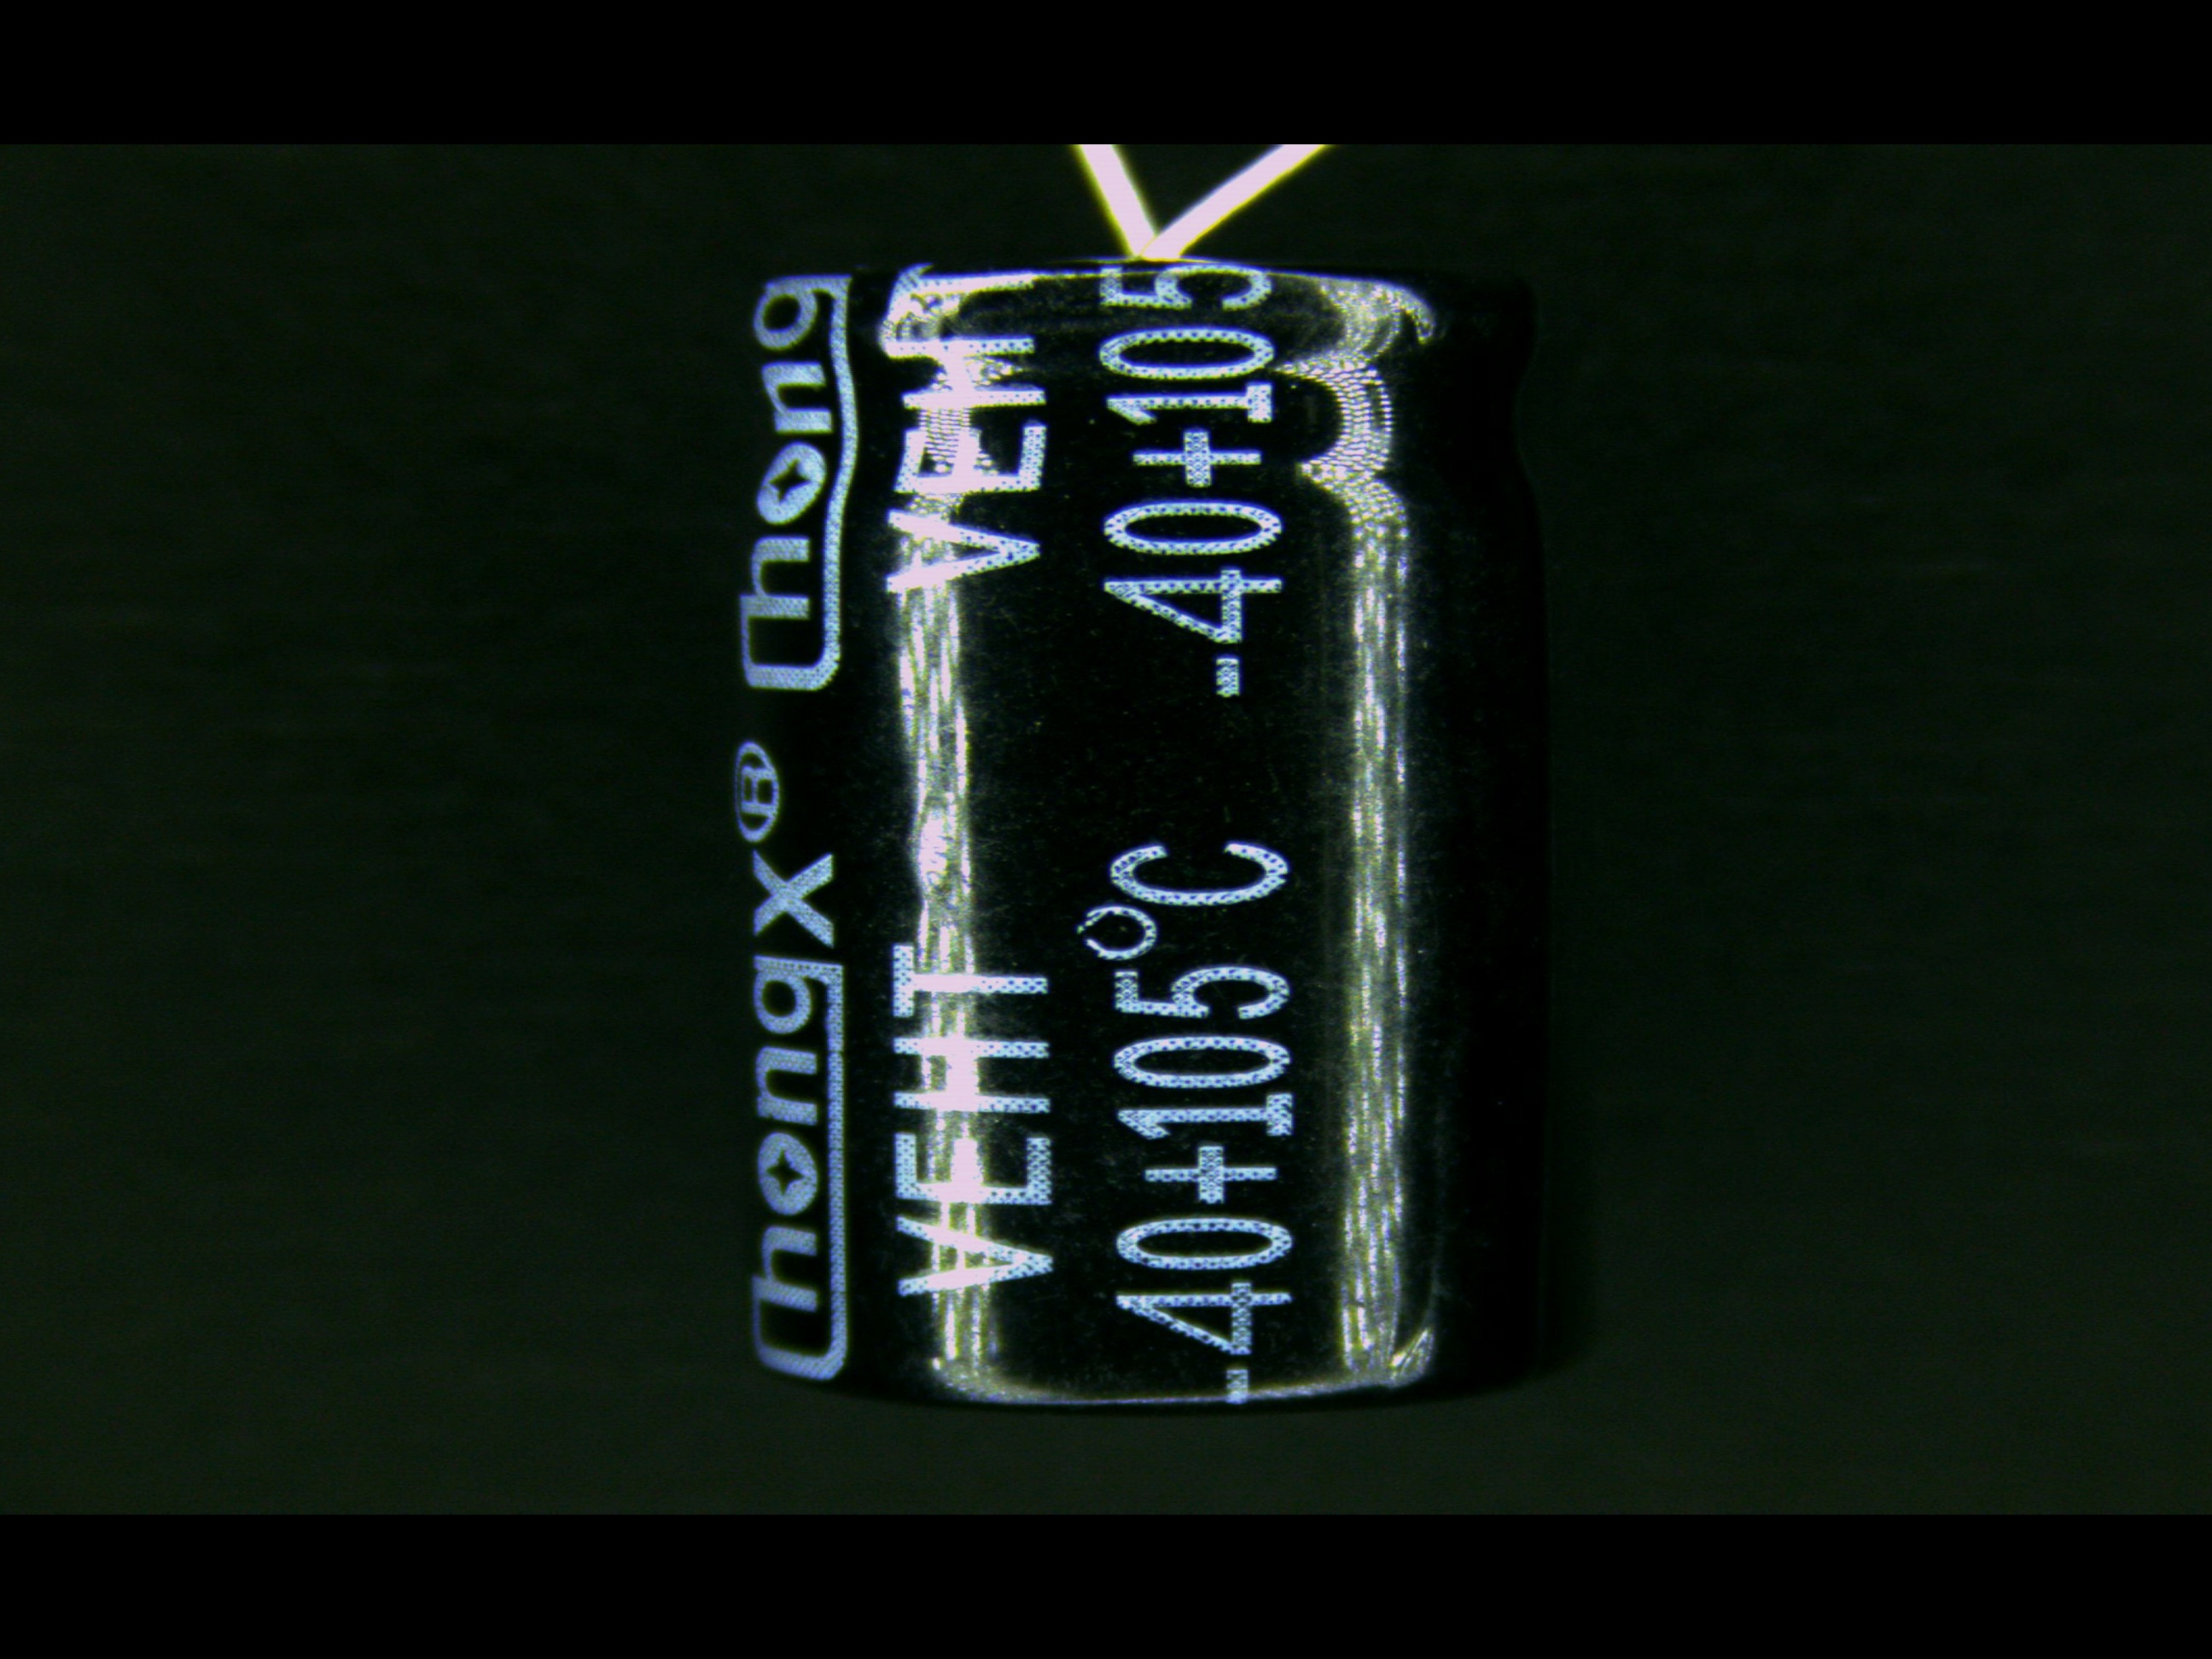c3: (707, 197, 1587, 1417)
